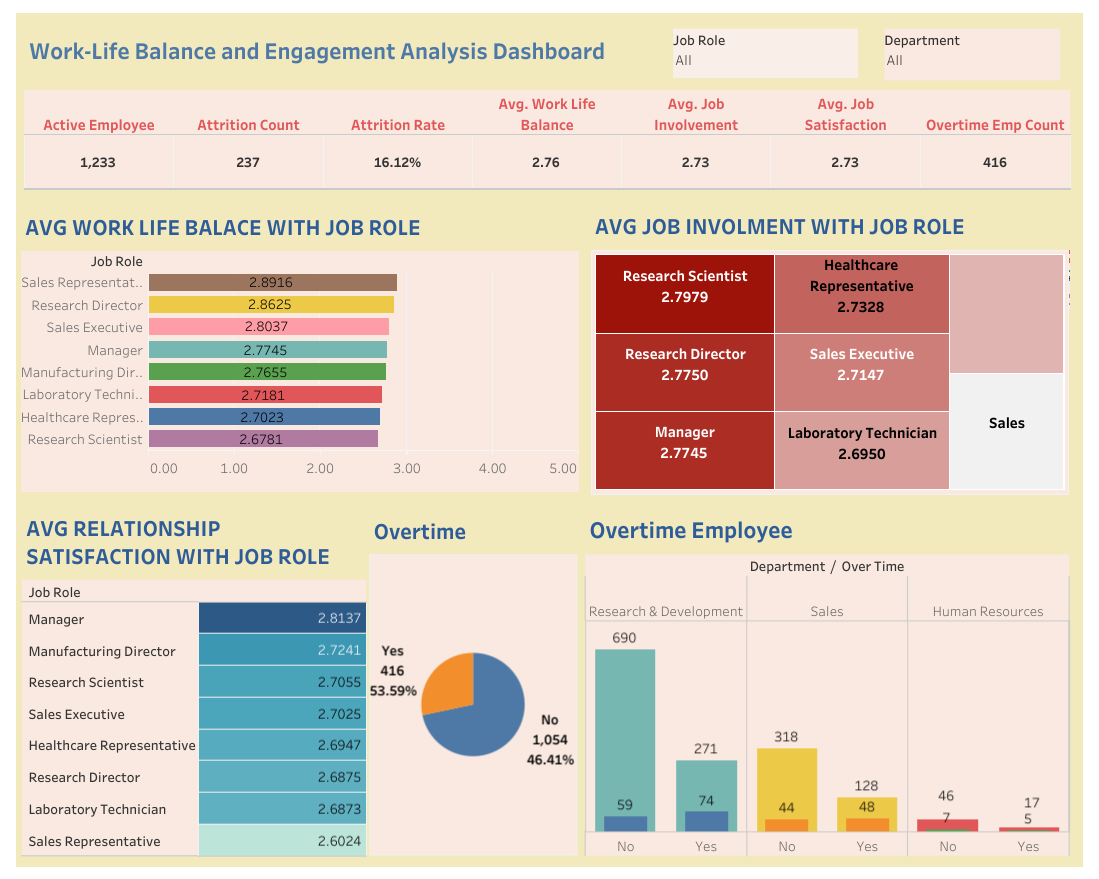

The page's visual inventory and layout, read from the dashboard file:
{"tool":"tableau","page":{"name":" Work-Life Balance and Engagement Analysis Dashboard","canvas":[1000,800],"ordinal":0},"visuals":[{"type":"image","param":"Image/background.png","box":[8,8,984,784]},{"type":"text","box":[19,18,549,55]},{"type":"filter","title":"AVG WORK LIFE BALACE WITH JOB ROLE","param":"[federated.06m8m2f183se901gni64j1dw4z2r].[none:JobRole:nk]","box":[612,26,168,45]},{"type":"filter","title":"Overtime Employee","param":"[federated.06m8m2f183se901gni64j1dw4z2r].[none:Department:nk]","box":[804,26,160,47]},{"type":"worksheet","title":"KPI","mark":"Automatic","box":[22,82,952,91]},{"type":"worksheet","title":"AVG JOB INVOLMENT WITH JOB ROLE","mark":"Automatic","box":[537,186,435,265]},{"type":"worksheet","title":"AVG WORK LIFE BALACE WITH JOB ROLE","mark":"Automatic","rows":["JobRole"],"cols":["WorkLifeBalance"],"box":[19,187,508,261]},{"type":"worksheet","title":"AVG RELATIONSHIP SATISFACTION WITH JOB ROLE","mark":"Square","rows":["JobRole"],"box":[20,460,314,319]},{"type":"worksheet","title":"Overtime Employee","mark":"Bar","rows":["EmployeeCount","Calculation_592223383229423616"],"cols":["Department","OverTime"],"box":[532,461,441,318]},{"type":"worksheet","title":"overtime yes no","mark":"Pie","box":[336,463,189,315]}]}

Visuals, with their boxes in screenshot pixels (x1, y1, x2, y2), scaled from the page's 1000x800 canvas onto the 1099x879 screenshot:
image: (9, 9, 1090, 870)
text: (21, 20, 624, 80)
"AVG WORK LIFE BALACE WITH JOB ROLE" filter: (673, 29, 857, 78)
"Overtime Employee" filter: (884, 29, 1059, 80)
"KPI" worksheet: (24, 90, 1070, 190)
"AVG JOB INVOLMENT WITH JOB ROLE" worksheet: (590, 204, 1068, 496)
"AVG WORK LIFE BALACE WITH JOB ROLE" worksheet: (21, 205, 579, 492)
"AVG RELATIONSHIP SATISFACTION WITH JOB ROLE" worksheet (Square marks): (22, 505, 367, 856)
"Overtime Employee" worksheet (Bar marks): (585, 507, 1069, 856)
"overtime yes no" worksheet (Pie marks): (369, 509, 577, 855)
